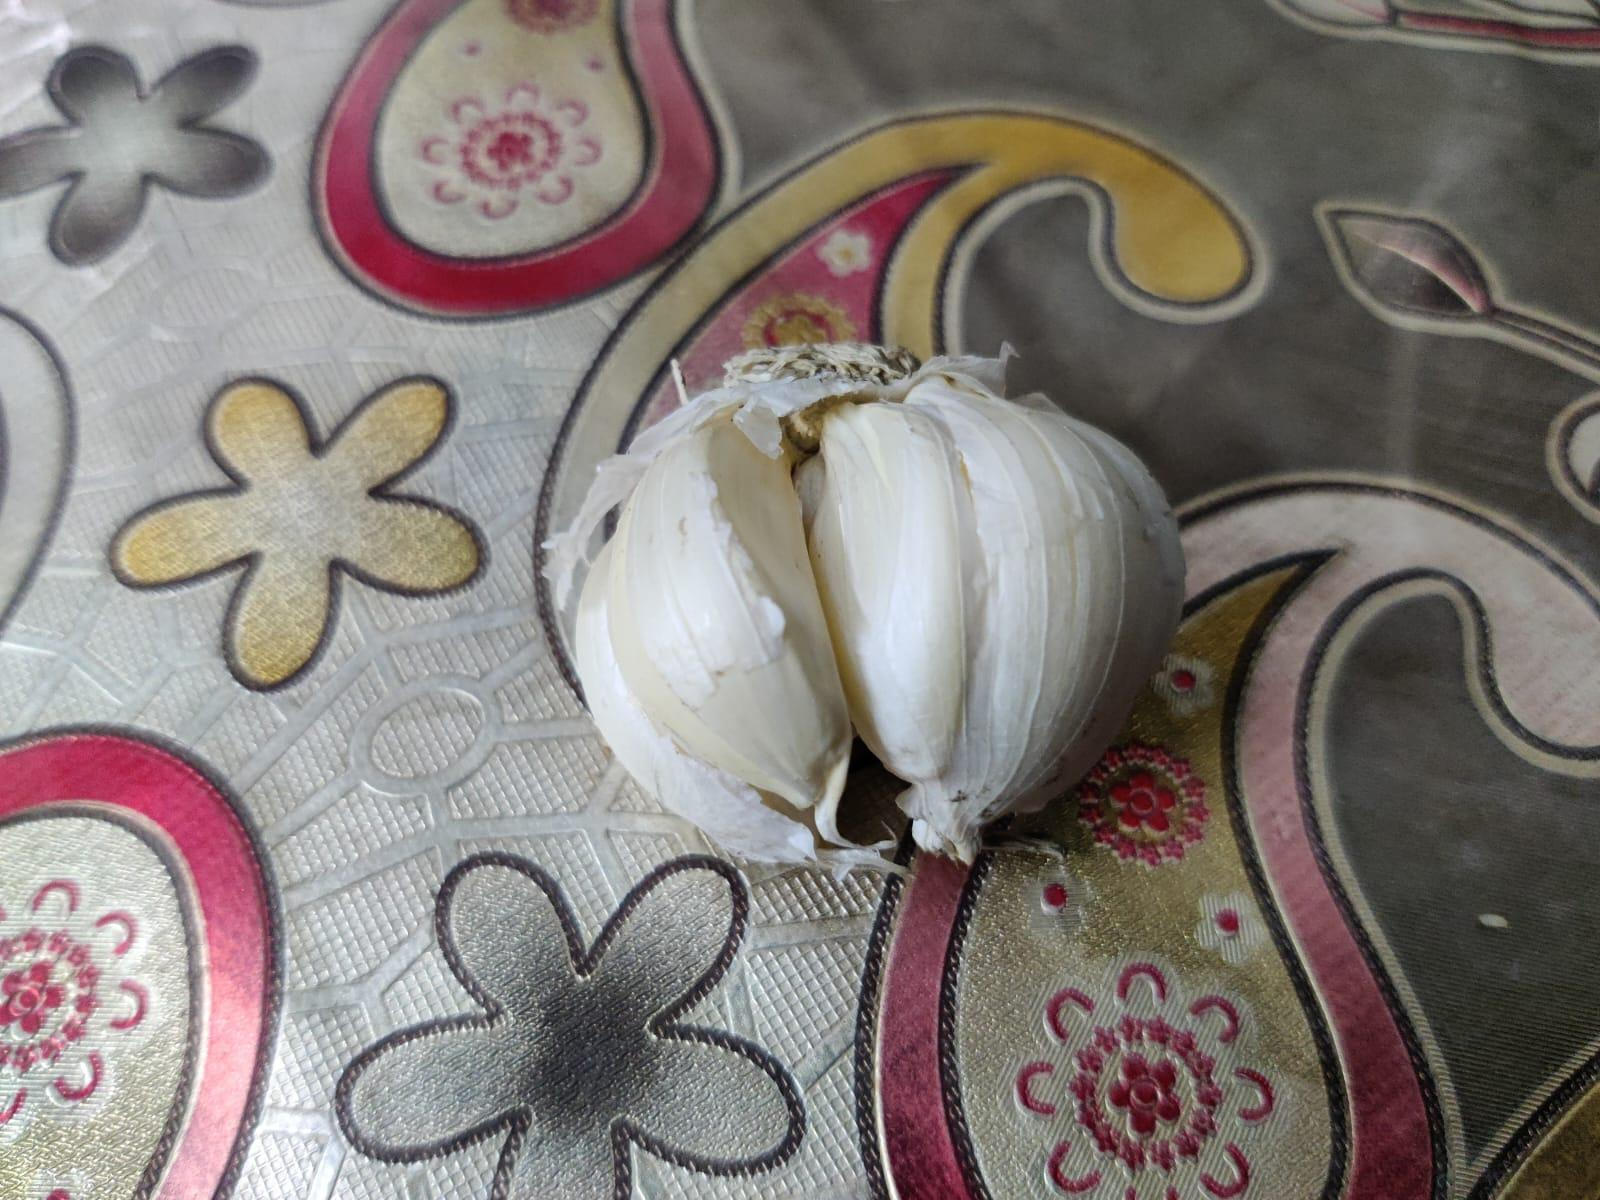non-mango: (580, 371, 1187, 876)
